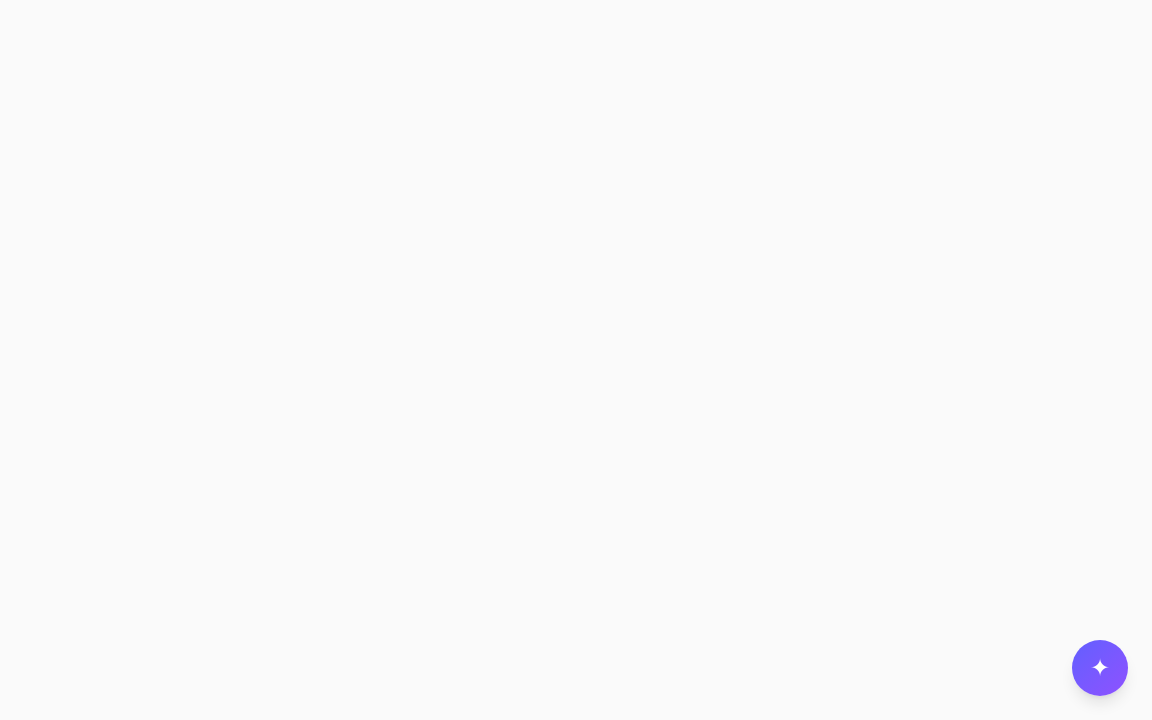
Test: WidgetShell (US6b) › opens from the launcher on an empty new chat and ✕ closes it, focus back on the launcher (AC6b.1)
This screenshot has width=1152, height=720.
Click the button named "Open shopping copilot".
click(1100, 668)  # box [1072,640,1128,696]
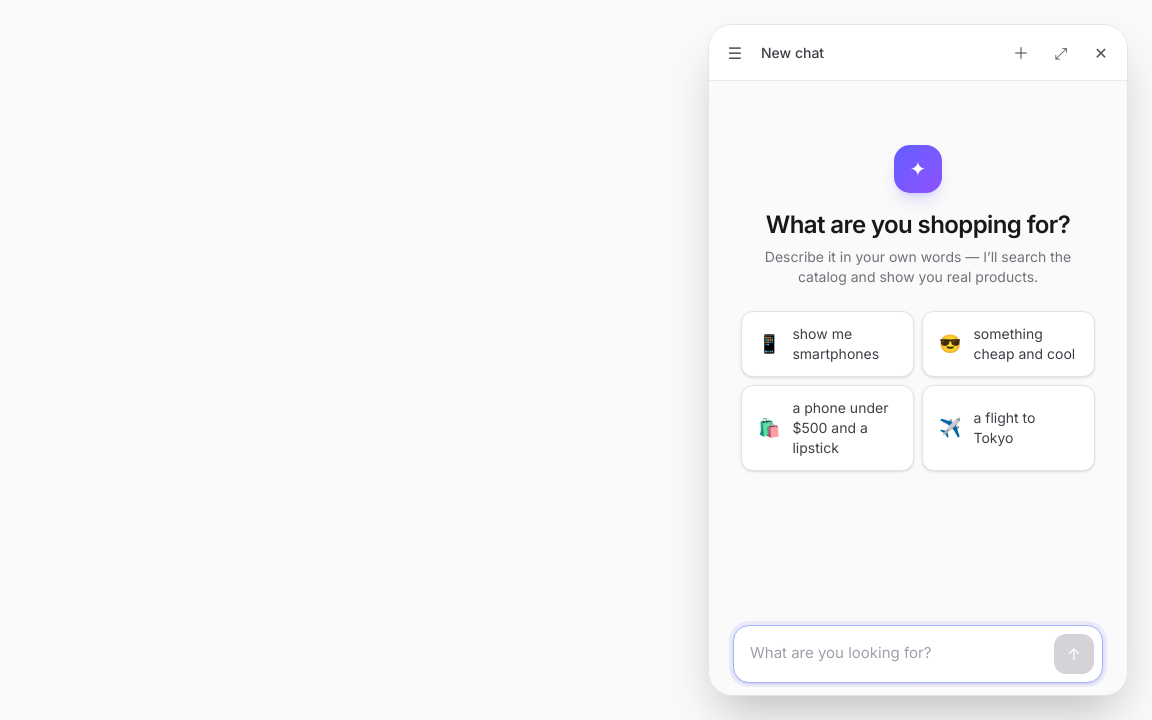
Expected: the heading "What are you shopping for?" is shown, [766,209,1070,241]
Expected: the heading "New chat" is shown, [761,44,824,60]
Click the button named "Close shopping copilot".
click(1101, 52)  # box [1083,34,1119,70]
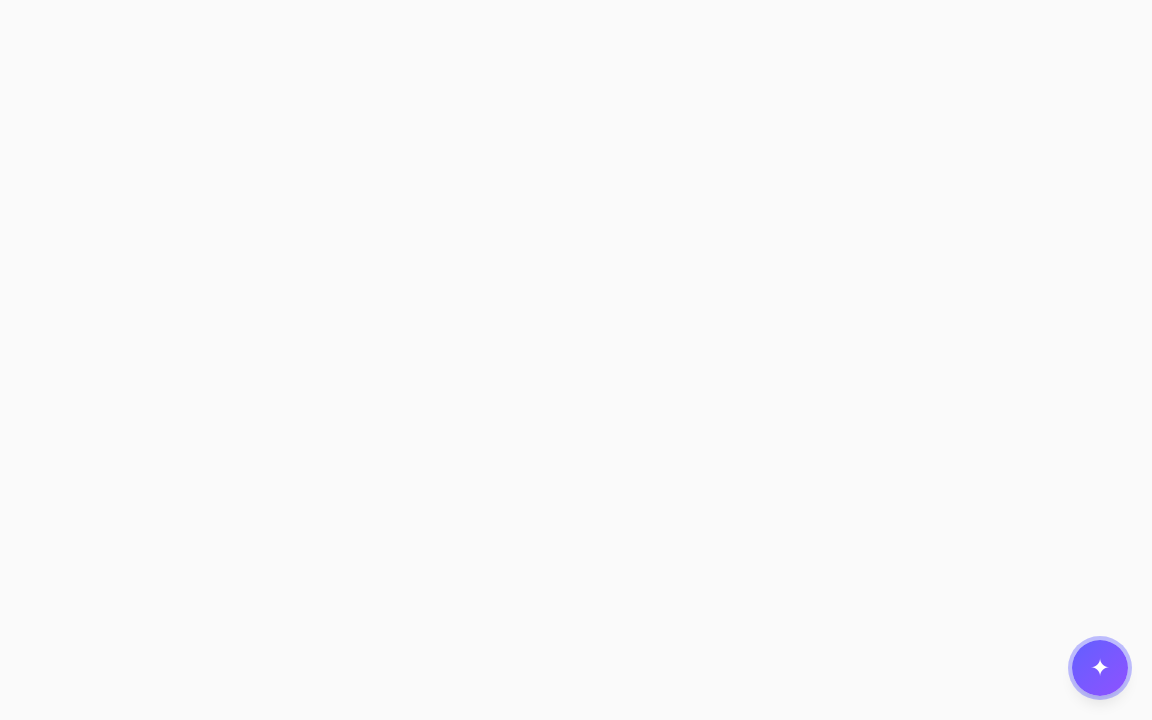
Expected: the dialog is gone
